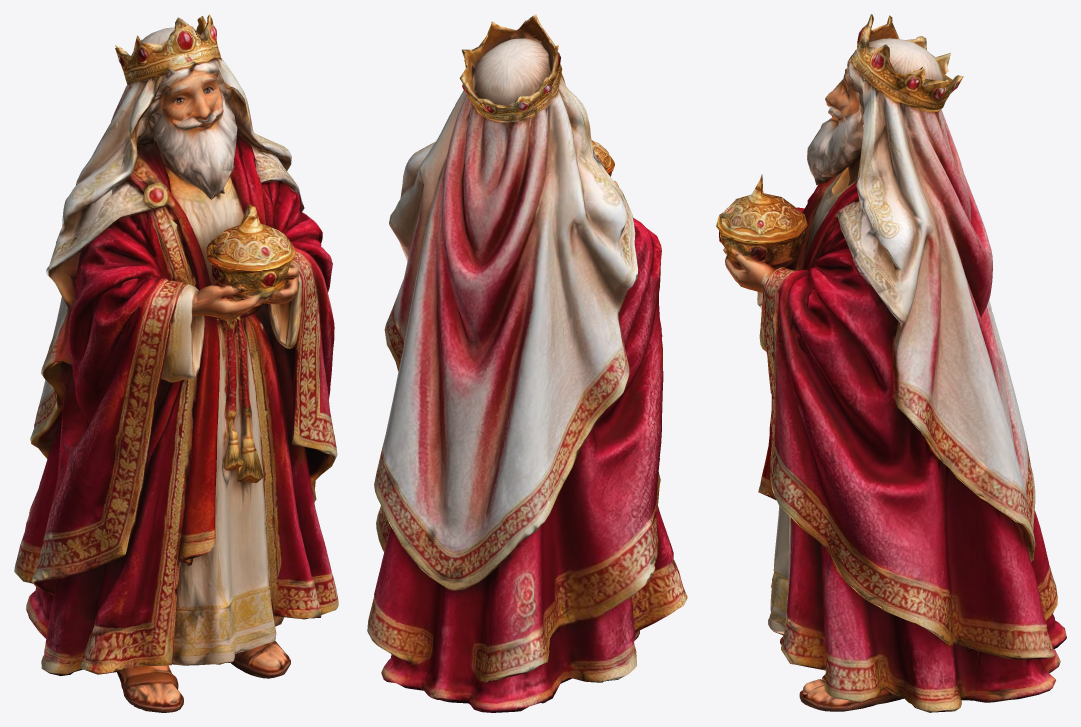
Rendered from caspar.glb.
3 views of the same model, side by side, from view 1: azimuth 30°, elevation 25°; view 2: azimuth 150°, elevation 25°; view 3: azimuth 270°, elevation 25° (orthographic). The views are drawn at different scales.
Parts seen in each view (by area): view 1: tripo_node_bb01808e-59a9-43d0-b26f-752fc09ce8a3; view 2: tripo_node_bb01808e-59a9-43d0-b26f-752fc09ce8a3; view 3: tripo_node_bb01808e-59a9-43d0-b26f-752fc09ce8a3.
Part boxes in pixels (<box>): tripo_node_bb01808e-59a9-43d0-b26f-752fc09ce8a3: <box>14,14,338,712</box>; tripo_node_bb01808e-59a9-43d0-b26f-752fc09ce8a3: <box>367,14,687,712</box>; tripo_node_bb01808e-59a9-43d0-b26f-752fc09ce8a3: <box>716,14,1066,712</box>.
Bounding box in the file's own units: 0.4351 × 0.9812 × 0.476.
Materials: 1 (1 with a texture image).
